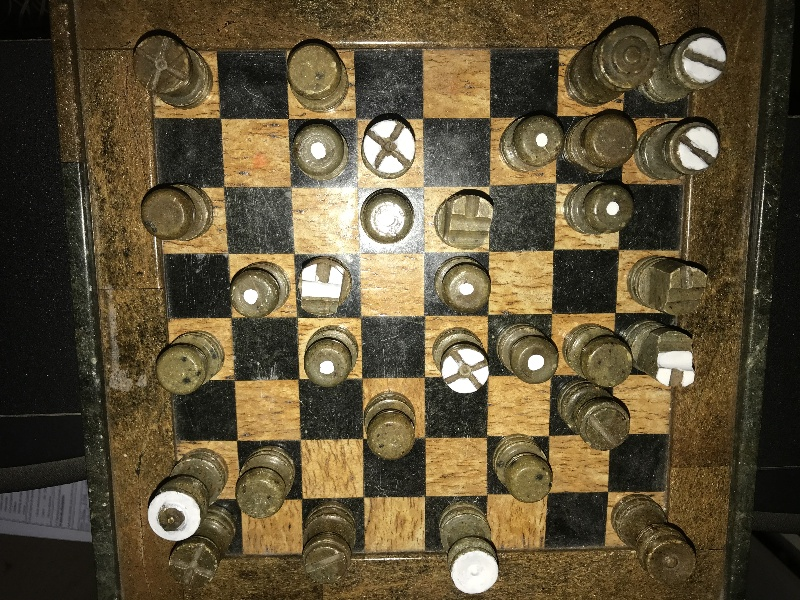WhiteBishop: (432, 327, 490, 394), (360, 117, 414, 178)
WhitePawn: (495, 323, 557, 383), (564, 182, 631, 234), (500, 118, 561, 172), (305, 325, 358, 387), (230, 261, 289, 316), (435, 256, 490, 313), (292, 123, 346, 180), (361, 188, 413, 244)
WhiteRook: (640, 34, 726, 103), (636, 120, 717, 180)
